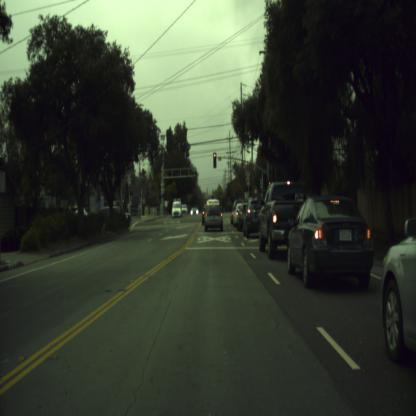Red: (213, 152, 216, 168), (268, 180, 271, 191)
